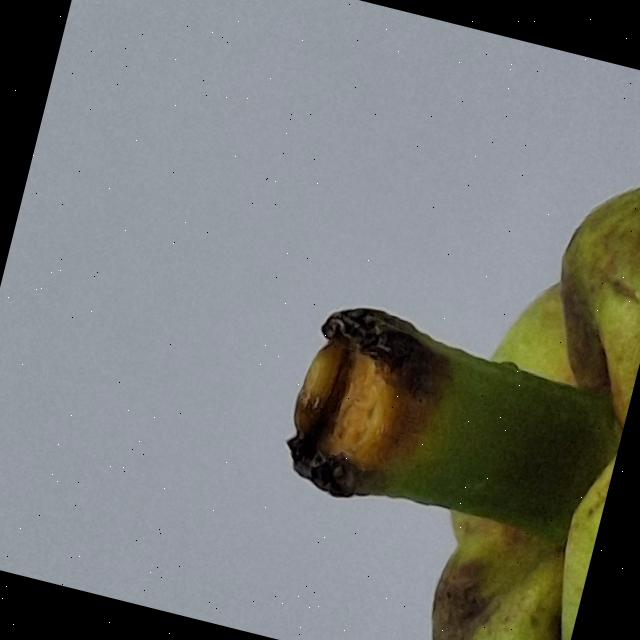mangosteen: (189, 0, 640, 640)
